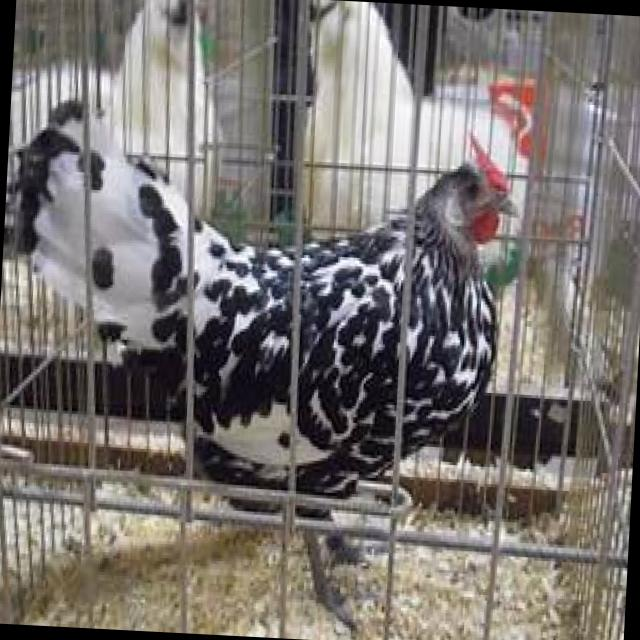animal: (0, 91, 525, 640)
